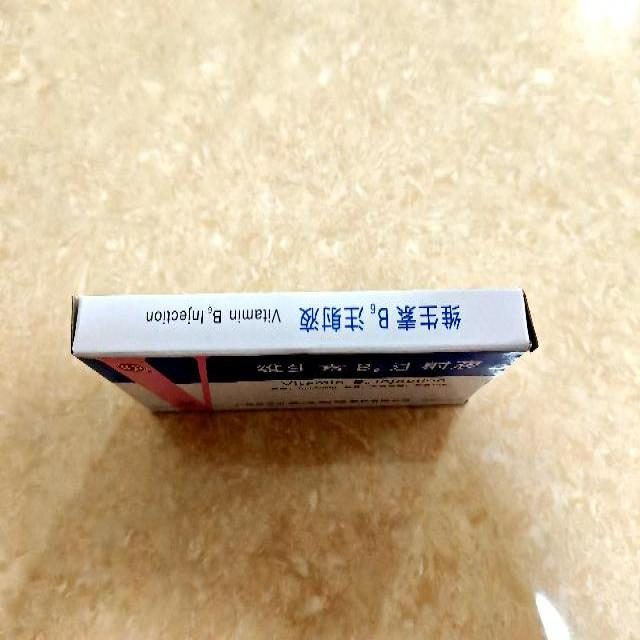box: (70, 288, 534, 413)
